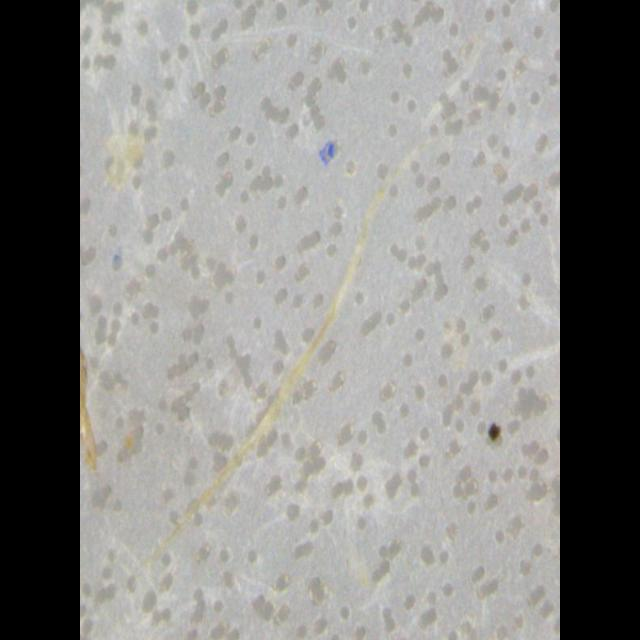Fibre: (152, 56, 484, 570), (80, 296, 122, 496), (98, 107, 152, 211)
